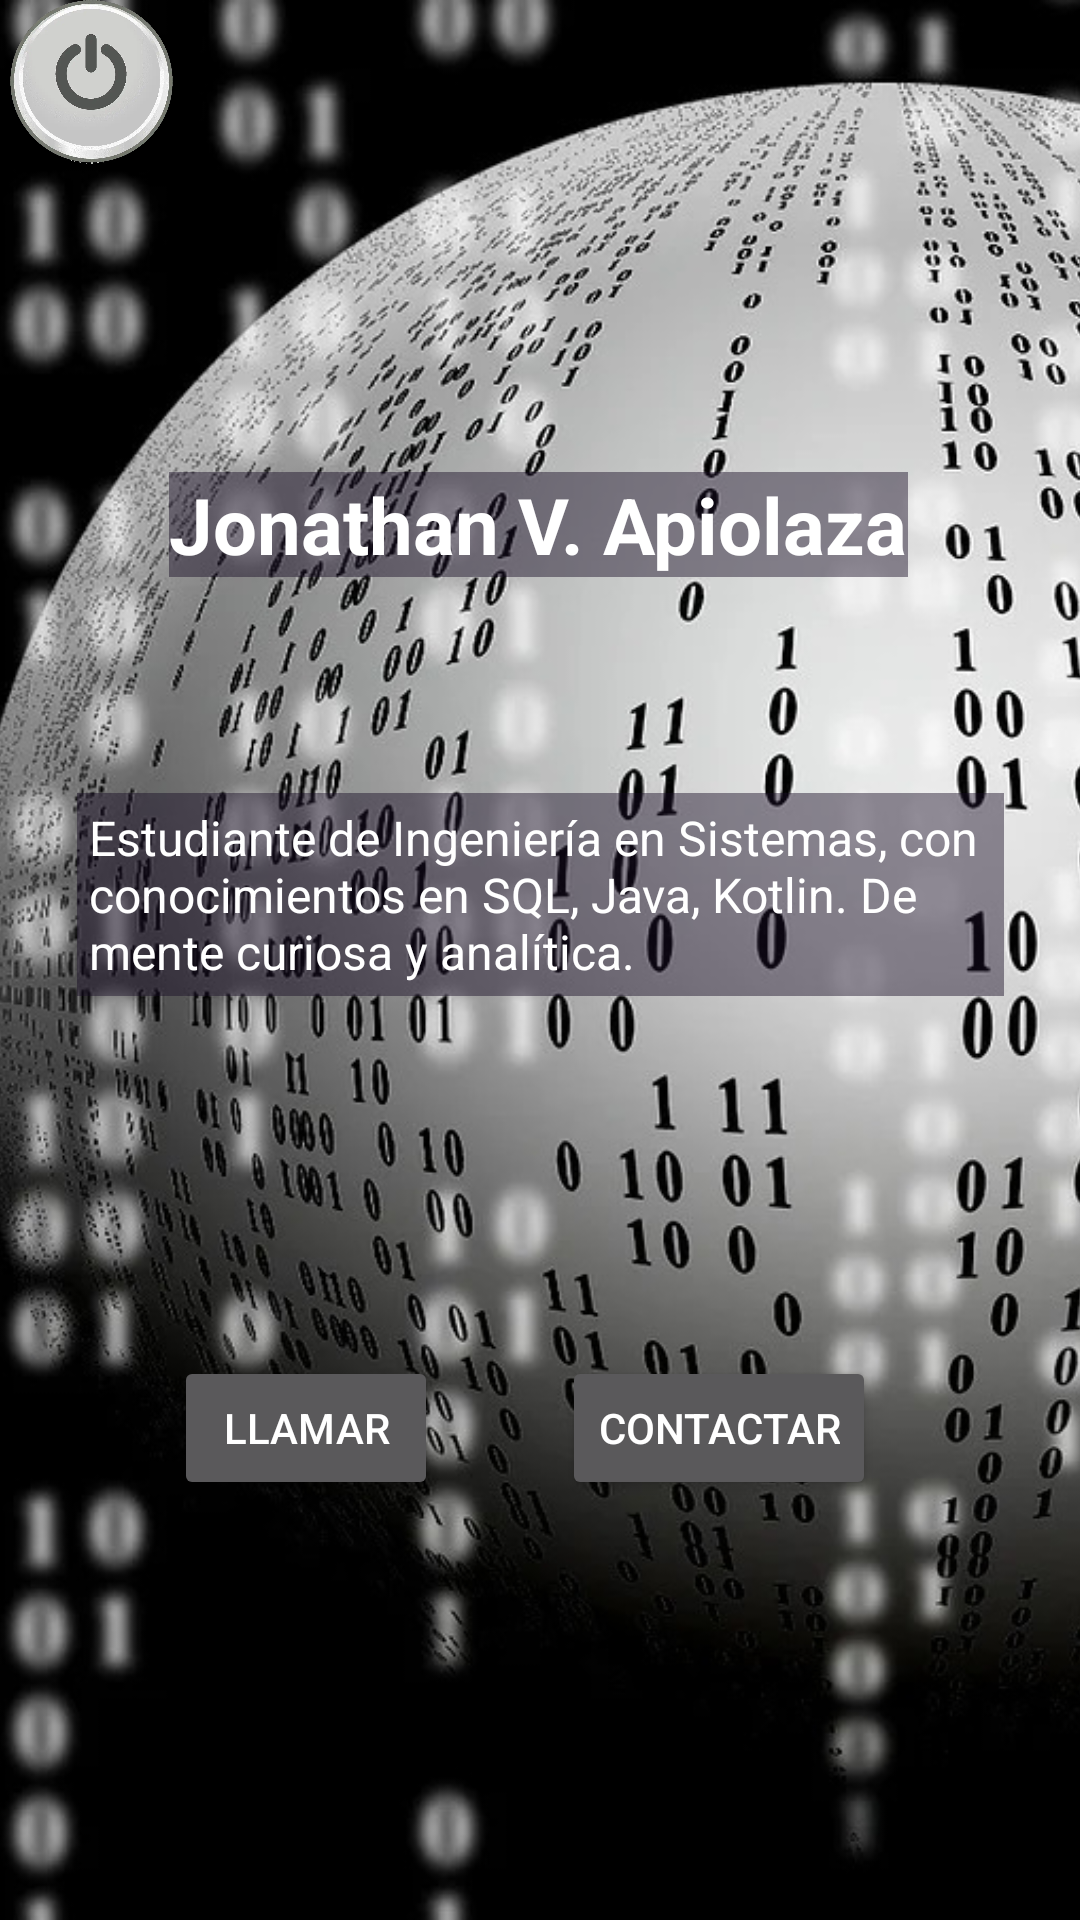

Screen size 1080x1920. Icon name, then its box in pixels as BBox(x1, y1, x2, y2):
botondecerrar: BBox(8, 0, 173, 164)
